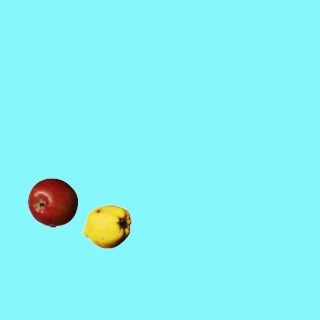Apple Braeburn: (27, 177, 77, 227)
Quince: (81, 201, 131, 251)
